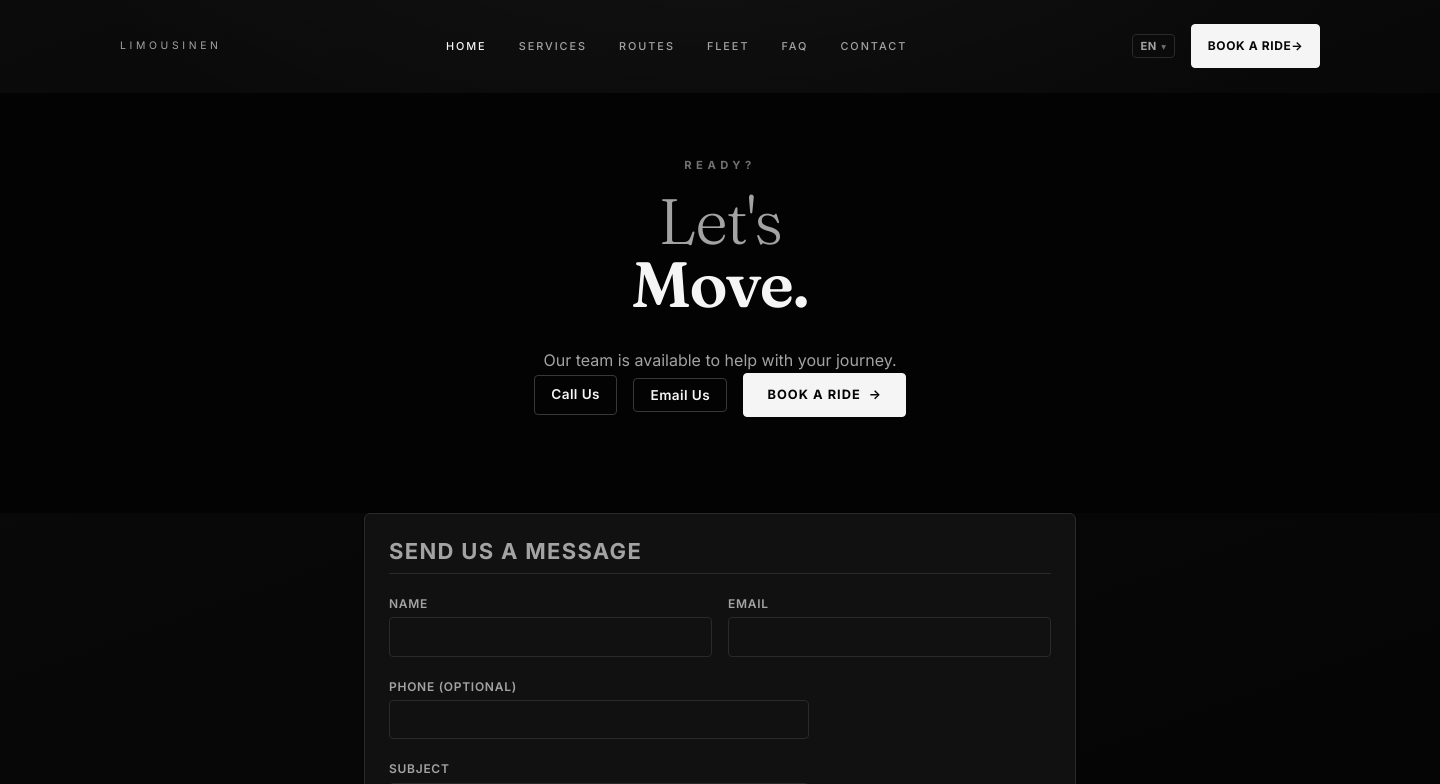
Test: ContactPage › submits the form and shows a success message
Type "Jane Doe" into the field labelled "Name".
click(550, 637); type("Jane Doe")  # box [389,617,712,657]
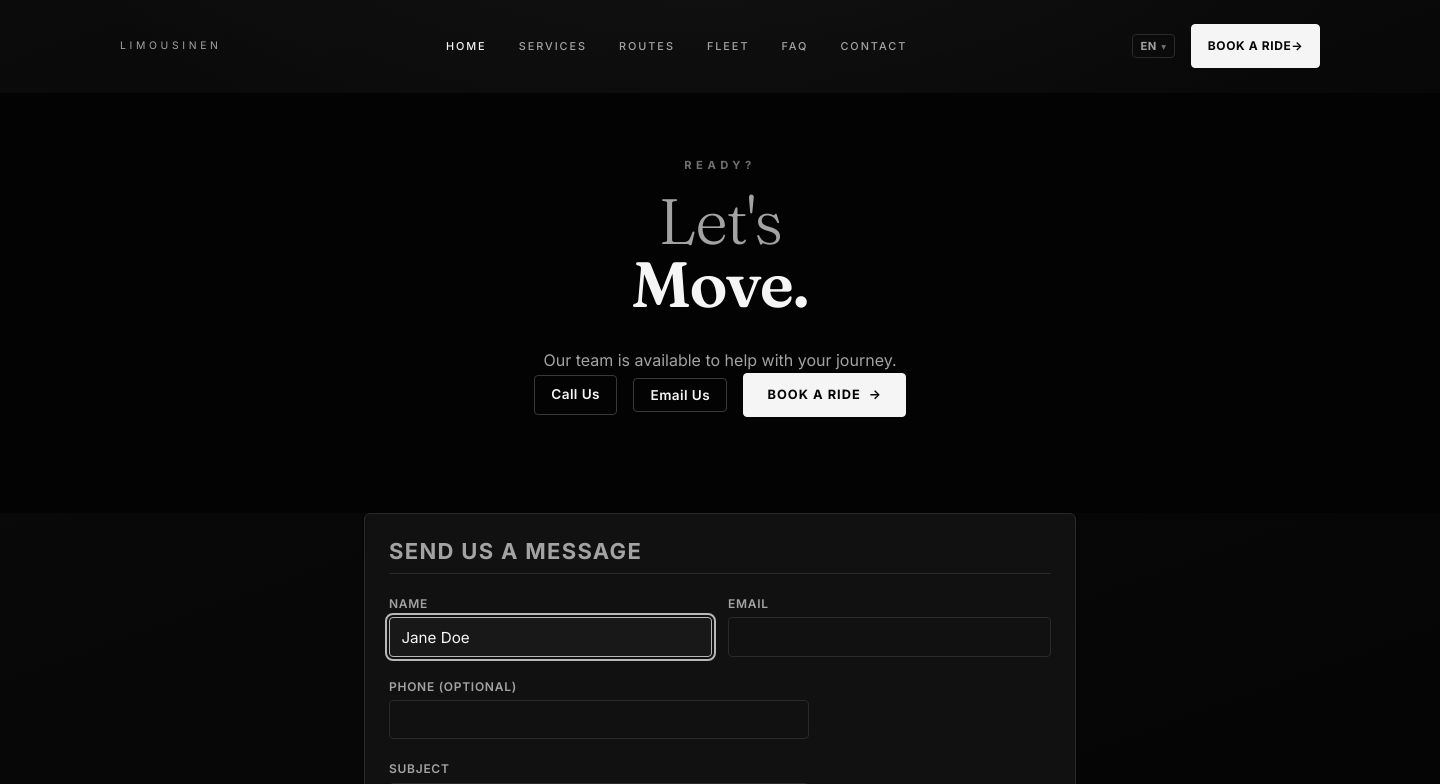
Type "jane@example.com" into the field labelled "Email".
click(890, 637); type("jane@example.com")  # box [728,617,1051,657]
(page scrolled)
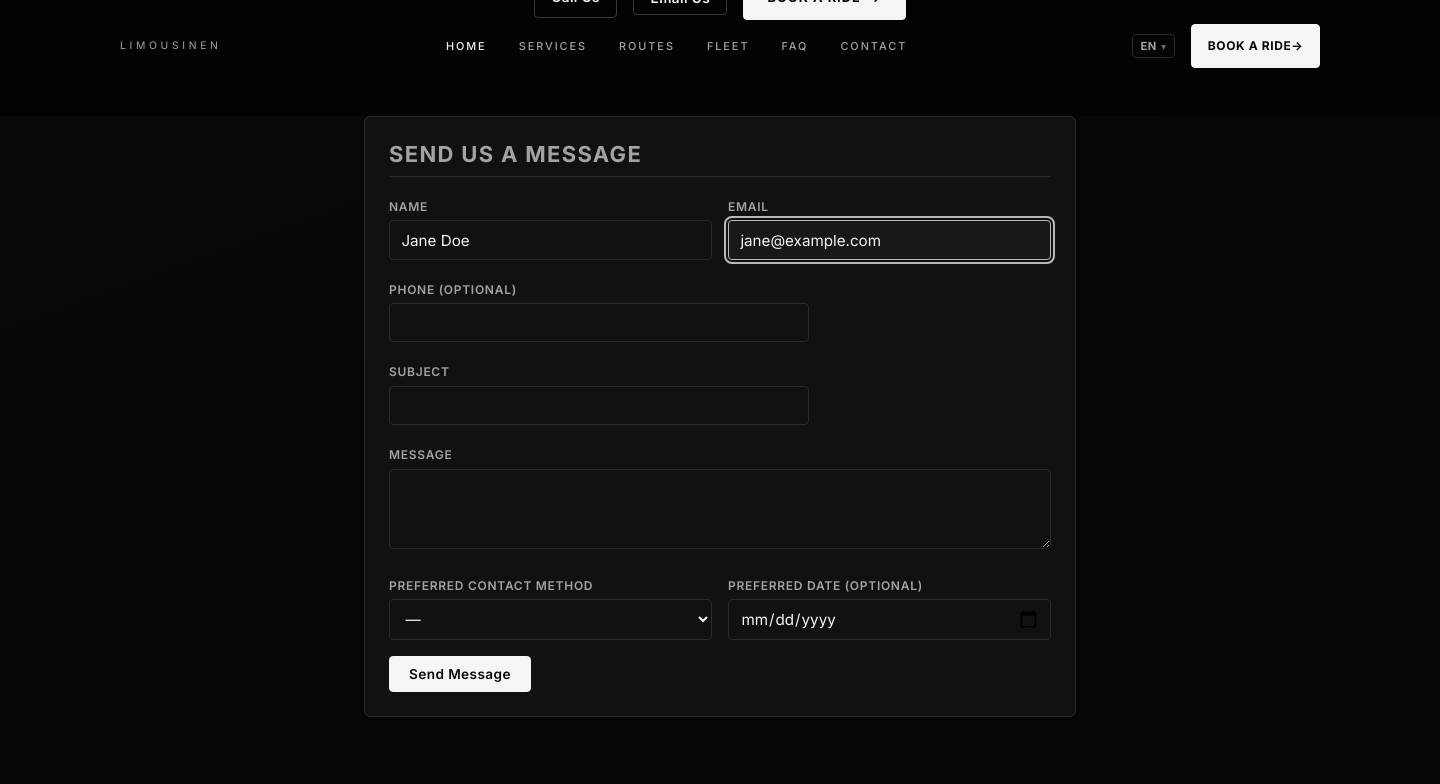
Type "Question about a booking" into the field labelled "Subject".
click(599, 406); type("Question about a booking")  # box [389,386,809,425]
(page scrolled)
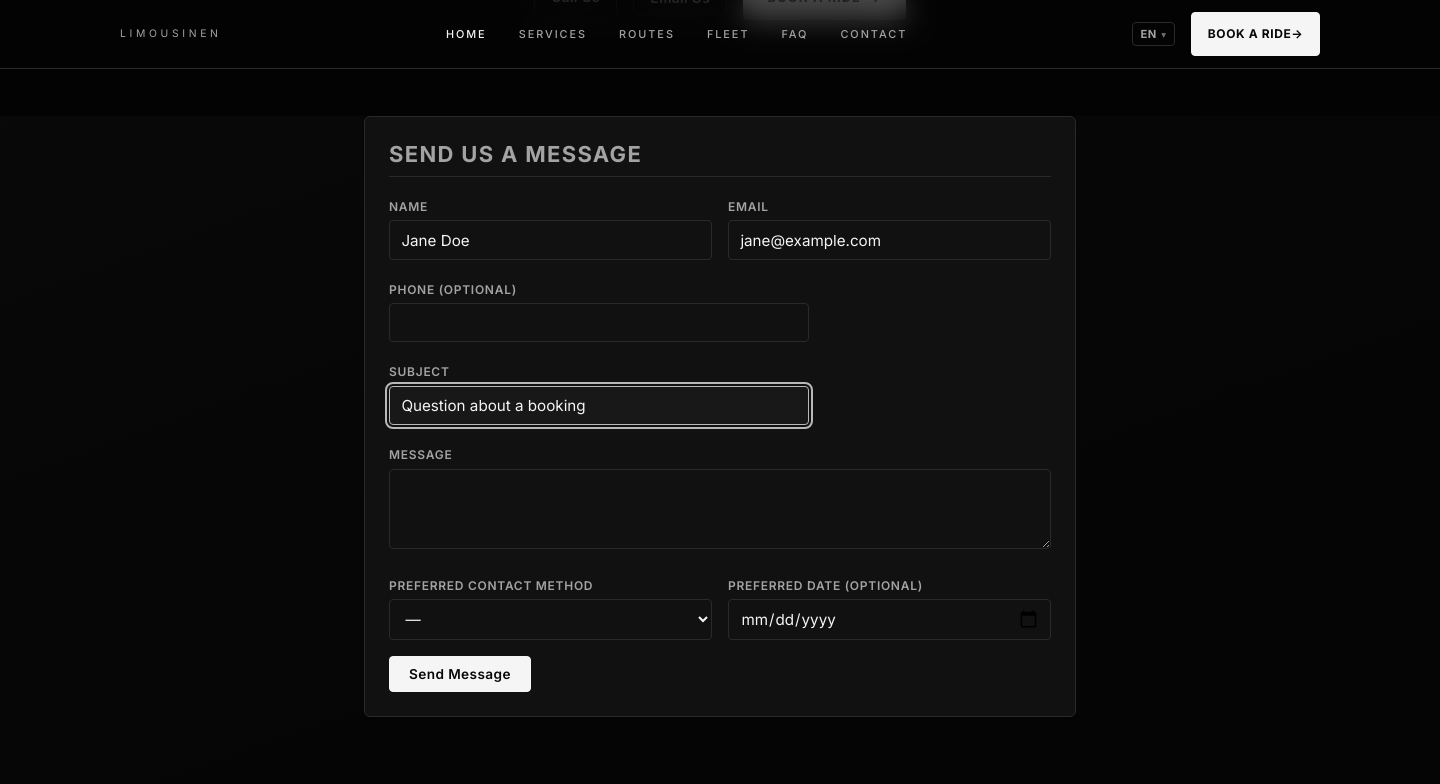
Type "I would like more information about your airport transfer service." into the text box labelled "Message".
click(720, 509); type("I would like more information about your airport transfer service.")  # box [389,469,1051,549]
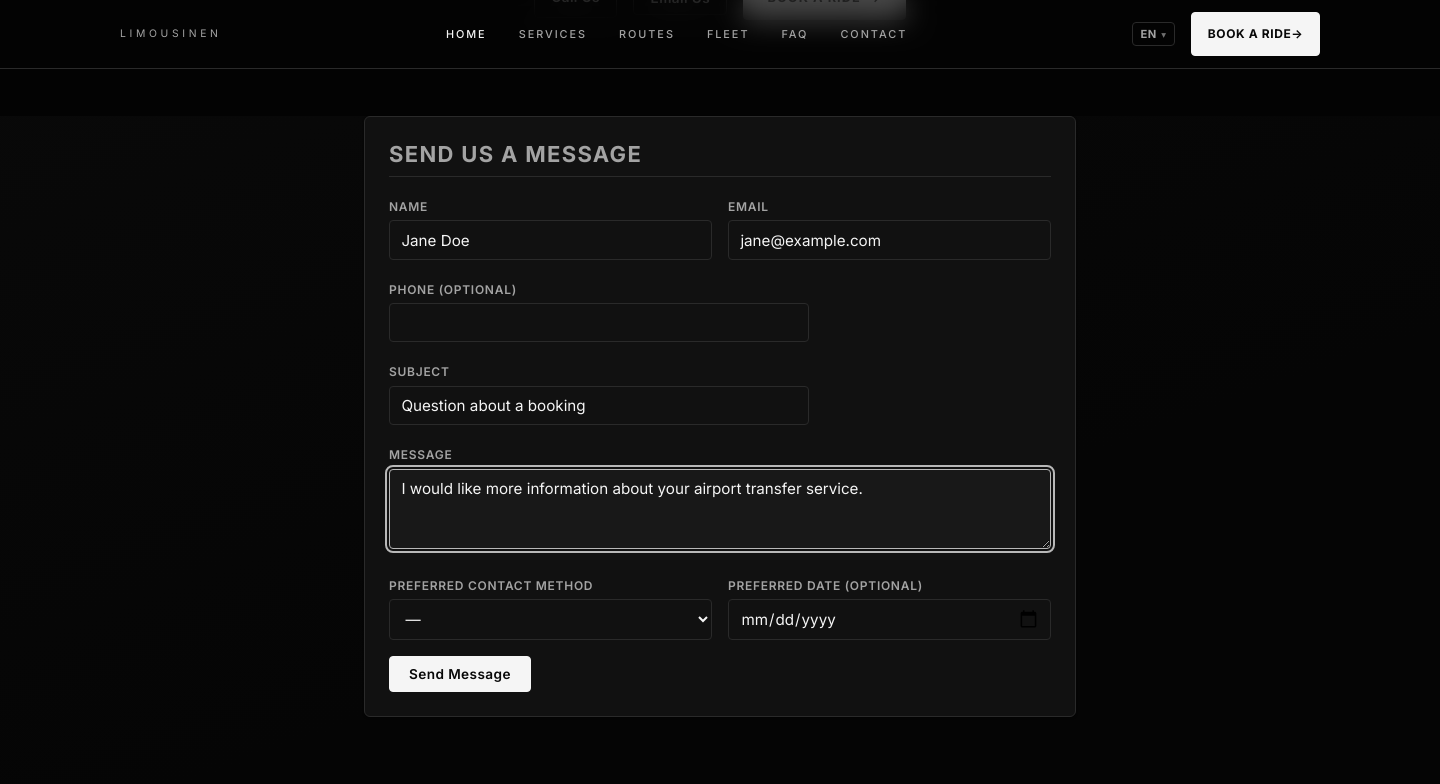
Click the button "Send Message".
click(460, 674)  # box [389,656,531,692]
(page scrolled)
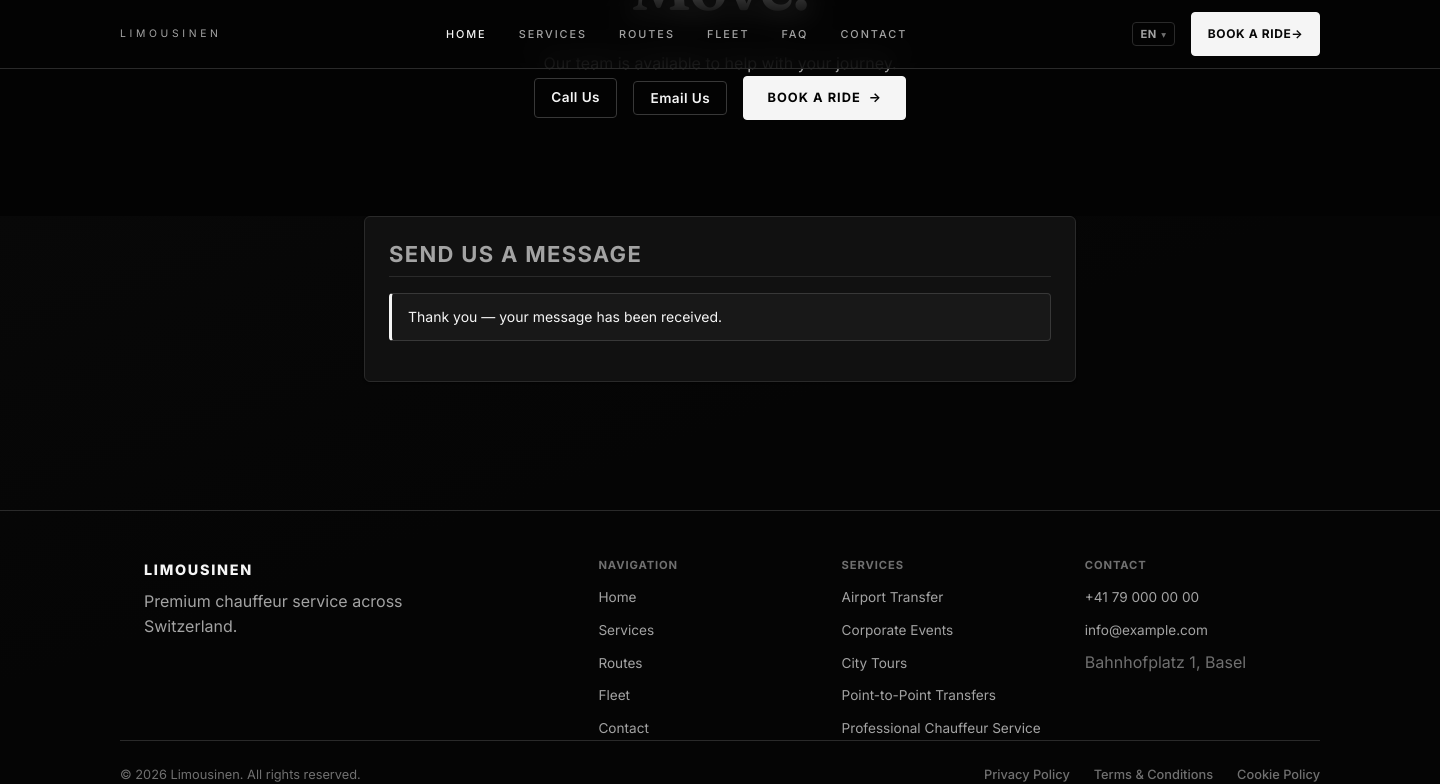
Expected: the message reads "Thank you — your message has been received.", [408,308,722,325]
